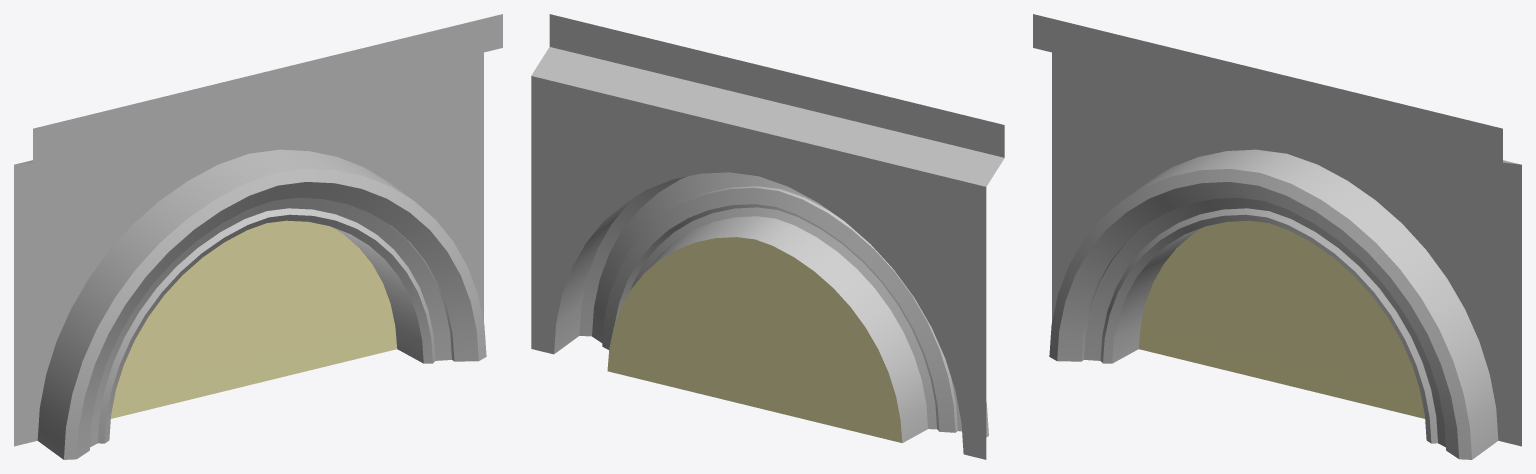
The model's file is ArchWindow.FBX.
3 renders of one model, left to right at view 1: azimuth 30°, elevation 25°; view 2: azimuth 150°, elevation 25°; view 3: azimuth 330°, elevation 25°, orthographic. The views are drawn at different scales.
Visible parts, largest first — view 1: ArchWindow; view 2: ArchWindow; view 3: ArchWindow.
Part boxes in pixels (<box>): ArchWindow: <box>14,14,502,459</box>; ArchWindow: <box>531,14,1004,459</box>; ArchWindow: <box>1033,14,1521,459</box>.
Bounding box in the file's own units: 6.03 × 4.07 × 0.7302.
